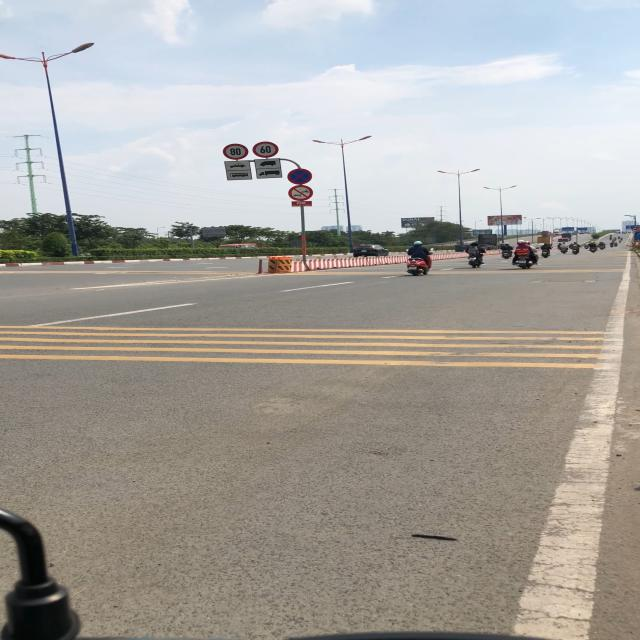Bien bao cam dung xe va do xe: (286, 166, 315, 187)
Bien bao toc do toi da cho phep: (220, 143, 248, 163), (252, 140, 281, 158)
